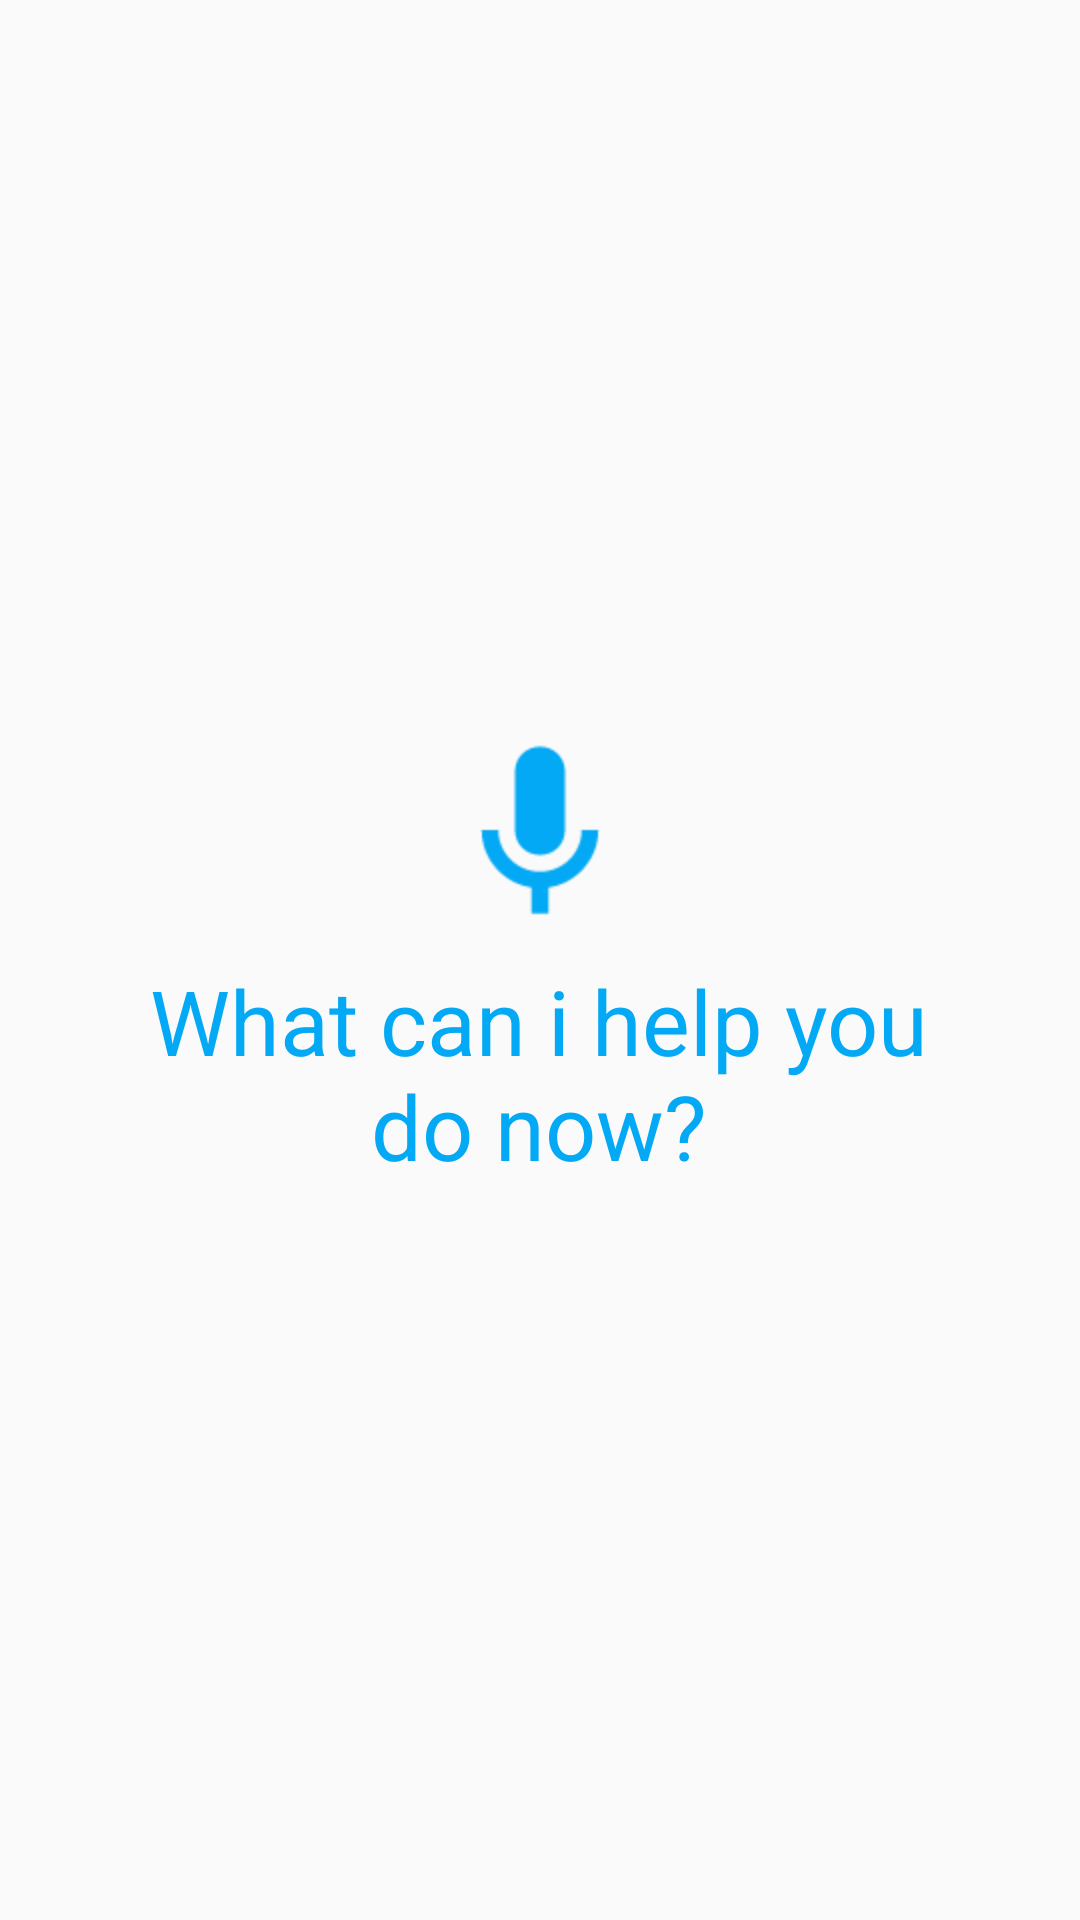

Named icons in this screenshot (1080x1920) and their centers, (x=x, y=y):
micro: (x=540, y=830)
